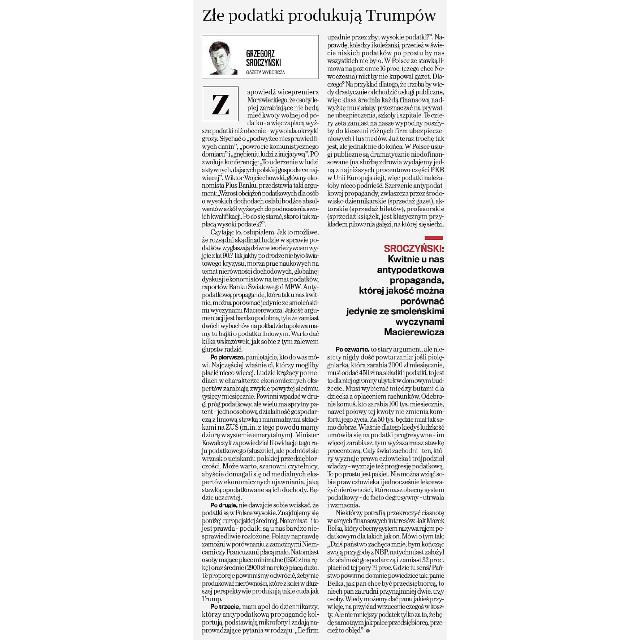author: (244, 46, 286, 68)
body: (199, 82, 321, 636), (324, 343, 446, 635), (326, 33, 446, 229)
lead: (326, 232, 446, 340)
title: (198, 4, 440, 26)
